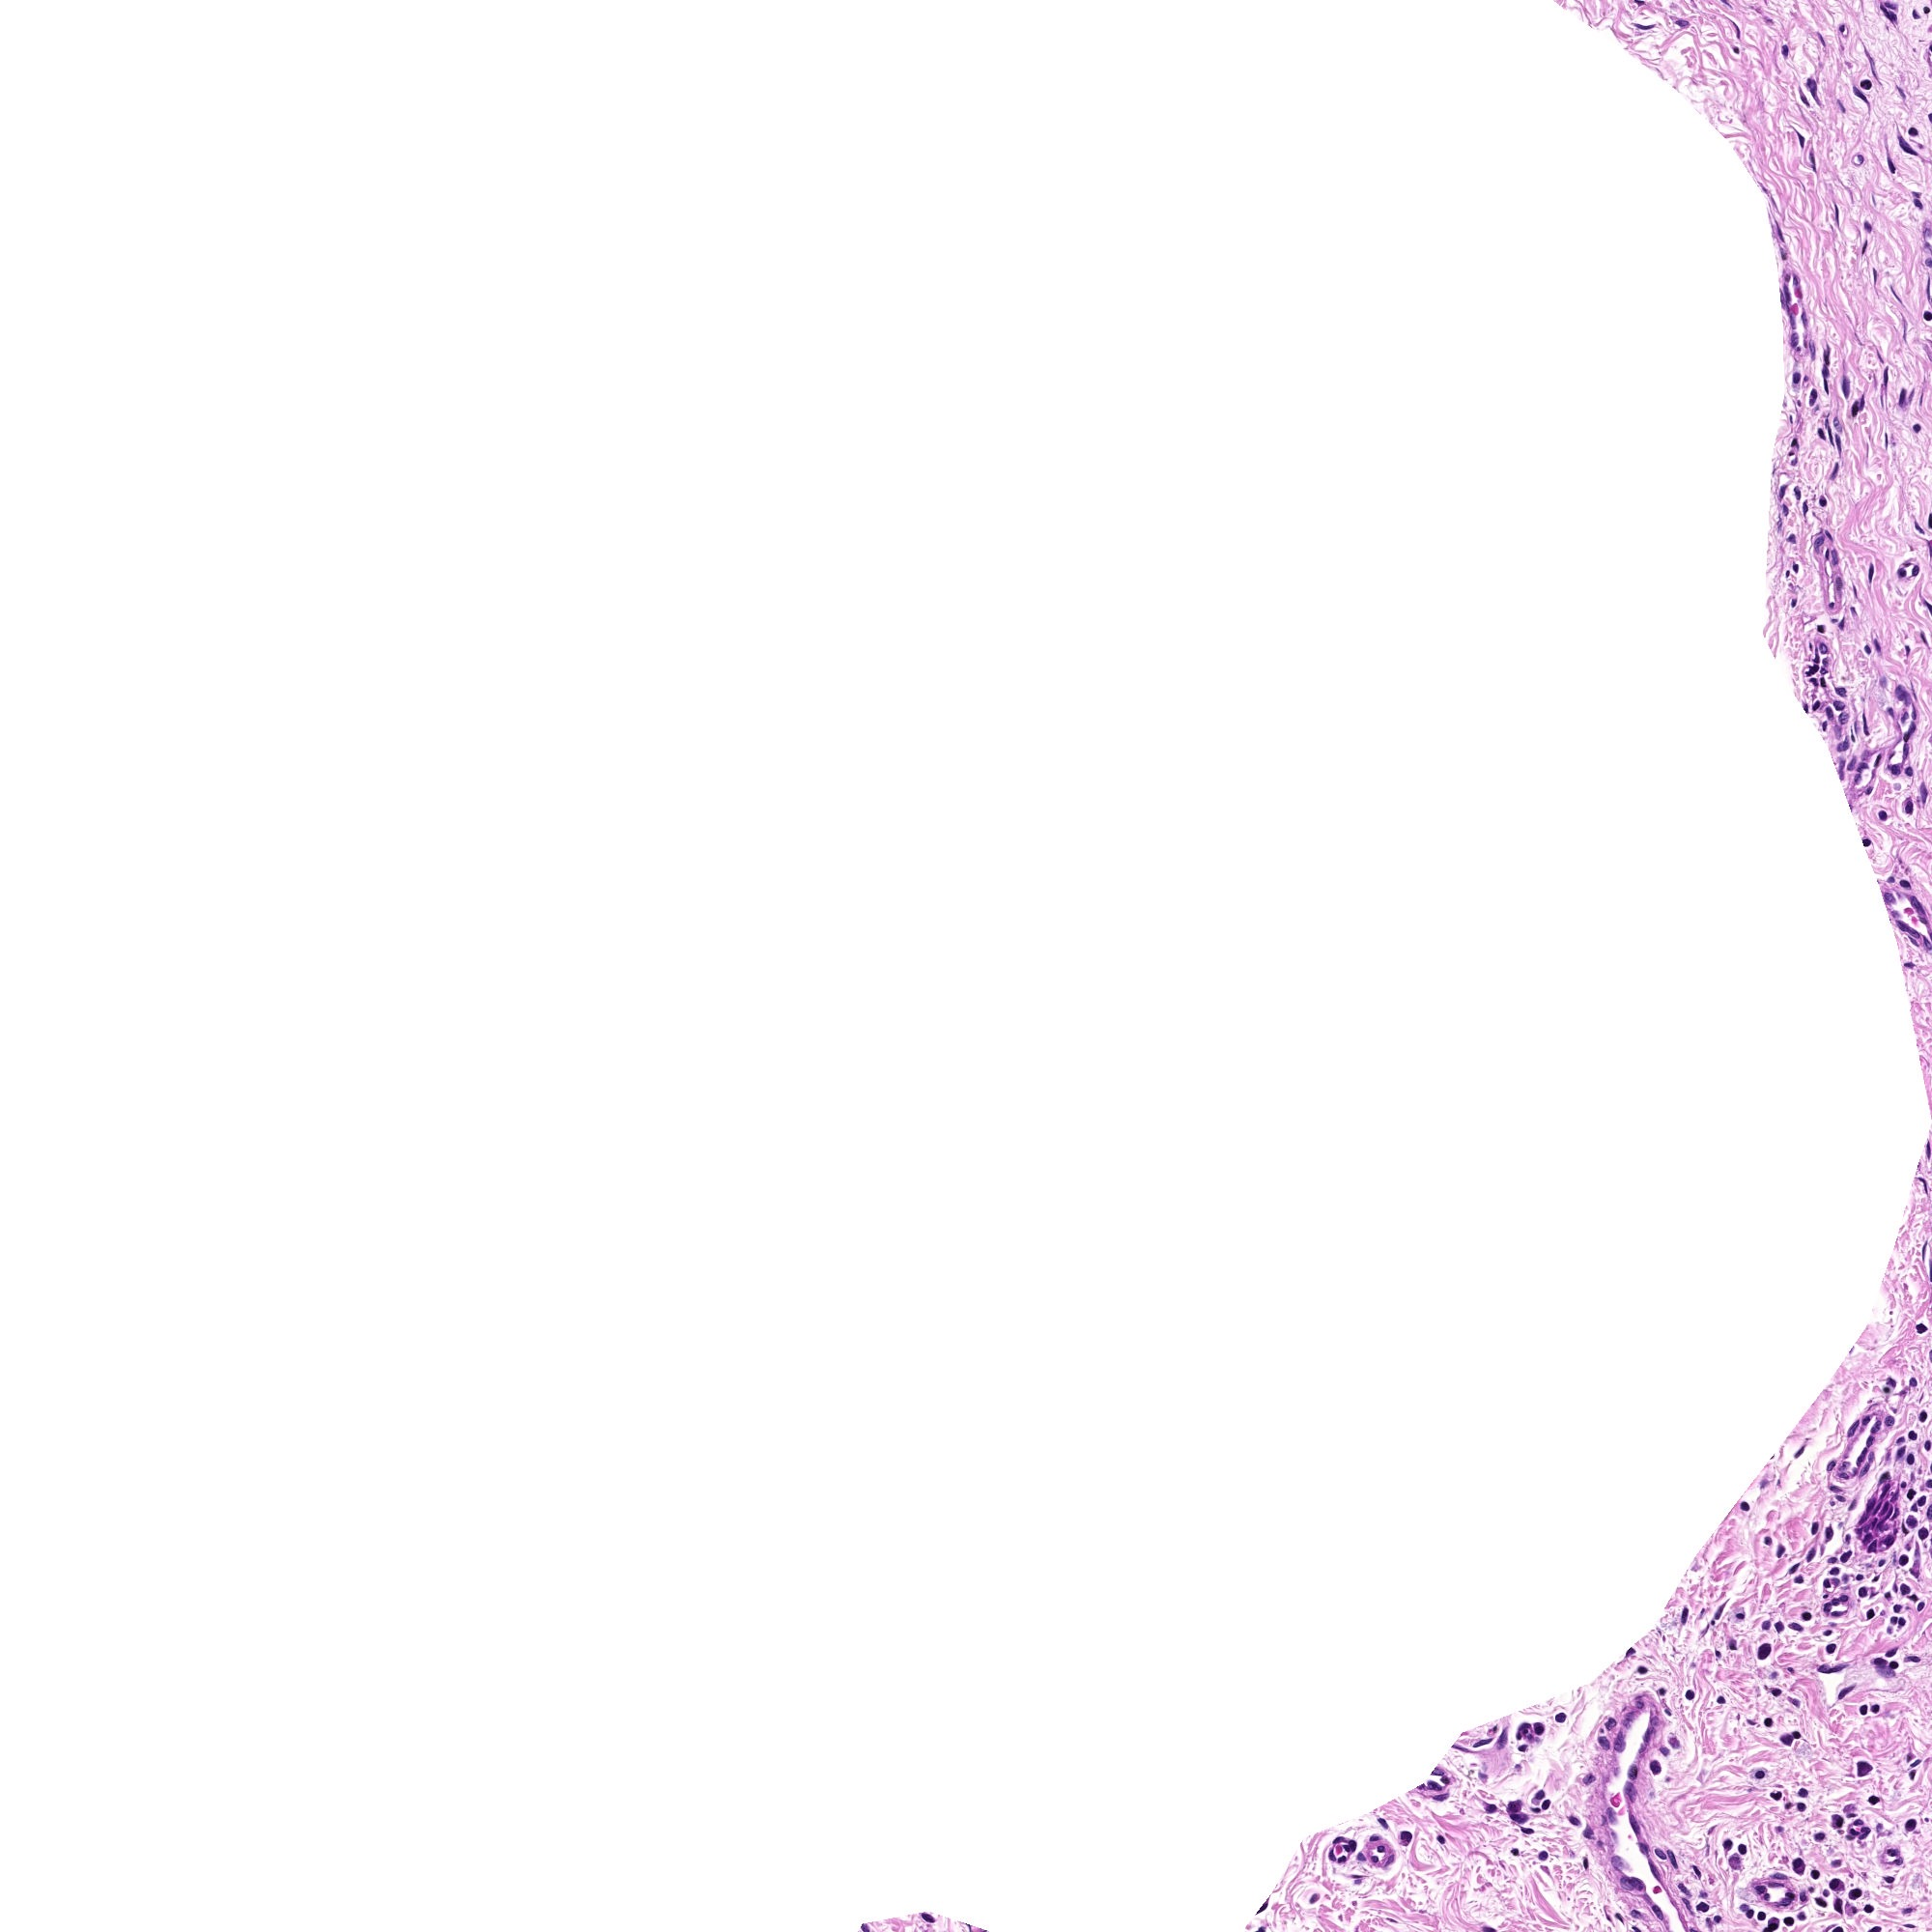epithelial: (1872, 1545, 1874, 1550), (1875, 1509, 1877, 1511)
fibroblast and endothelial: (1621, 1741, 1622, 1746), (1810, 1552, 1812, 1557), (1371, 1836, 1373, 1840), (1844, 1691, 1845, 1695), (1852, 1426, 1854, 1430), (1898, 1451, 1902, 1453), (1868, 1440, 1870, 1444), (1916, 902, 1918, 906), (1803, 317, 1805, 320), (1890, 165, 1891, 168), (1858, 92, 1859, 96), (1605, 1744, 1606, 1746), (1660, 1852, 1661, 1854), (1656, 1913, 1658, 1914), (1780, 1875, 1782, 1877), (1914, 1762, 1916, 1764), (1716, 1652, 1718, 1654), (1835, 1614, 1836, 1615), (1840, 690, 1842, 692), (1817, 543, 1819, 545), (1902, 571, 1904, 573)
inflammatory: (1826, 1532, 1831, 1536), (1698, 1905, 1706, 1907), (1776, 1796, 1780, 1799), (1833, 1882, 1835, 1888), (1854, 407, 1856, 410), (1920, 1327, 1921, 1330), (1833, 1569, 1836, 1571), (1762, 1649, 1764, 1652), (1863, 1767, 1865, 1771), (1543, 1854, 1546, 1856), (1796, 1861, 1799, 1863), (1773, 1925, 1776, 1927), (1739, 1615, 1741, 1619), (1913, 131, 1914, 133), (1654, 1767, 1656, 1769), (1405, 1835, 1407, 1836)
lymphocyte: (1920, 1499, 1923, 1502), (1803, 1615, 1810, 1617), (1928, 315, 1930, 318), (1904, 1557, 1905, 1560), (1720, 1698, 1721, 1702), (1801, 1805, 1803, 1808), (1440, 1840, 1444, 1842), (1882, 814, 1884, 816), (1875, 1707, 1877, 1709), (1813, 1874, 1815, 1875), (1868, 1907, 1870, 1909), (1748, 1914, 1750, 1916), (1545, 1805, 1546, 1806)
